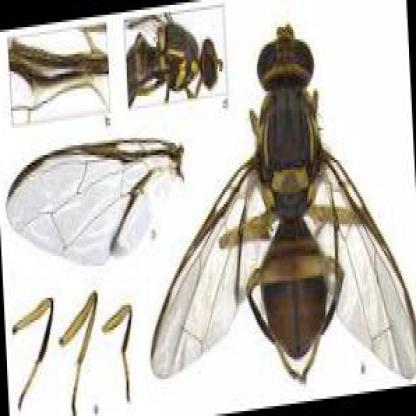fruit fly: (149, 25, 414, 384)
